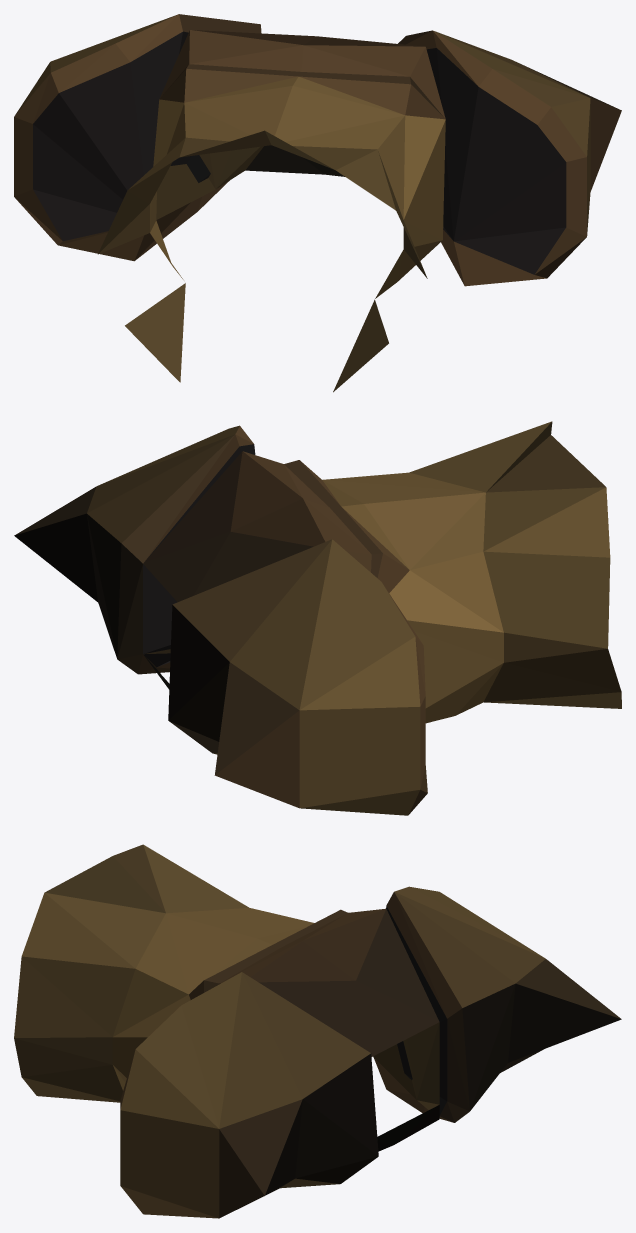
Rendered from splitbark-robe-top.obj.
The picture shows the model from 3 angles, top to bottom: view 1: azimuth 30°, elevation 25°; view 2: azimuth 150°, elevation 25°; view 3: azimuth 270°, elevation 25°; orthographic projection. The views are drawn at different scales.
Visible parts, largest first — view 1: Item Splitbark body 2026-09-24_18-04-49; view 2: Item Splitbark body 2026-09-24_18-04-49; view 3: Item Splitbark body 2026-09-24_18-04-49.
Boxes of the visible parts, x1,y1,x2,y2 form: Item Splitbark body 2026-09-24_18-04-49: (14, 14, 621, 392); Item Splitbark body 2026-09-24_18-04-49: (14, 421, 621, 815); Item Splitbark body 2026-09-24_18-04-49: (14, 844, 621, 1218).
Size of the model in its own units: 79 by 33 by 80.
